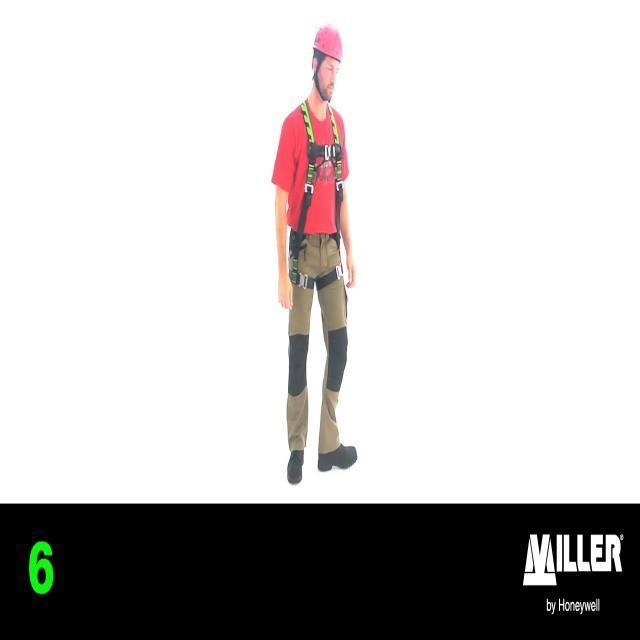Arnes_seguridad: (286, 99, 346, 292)
